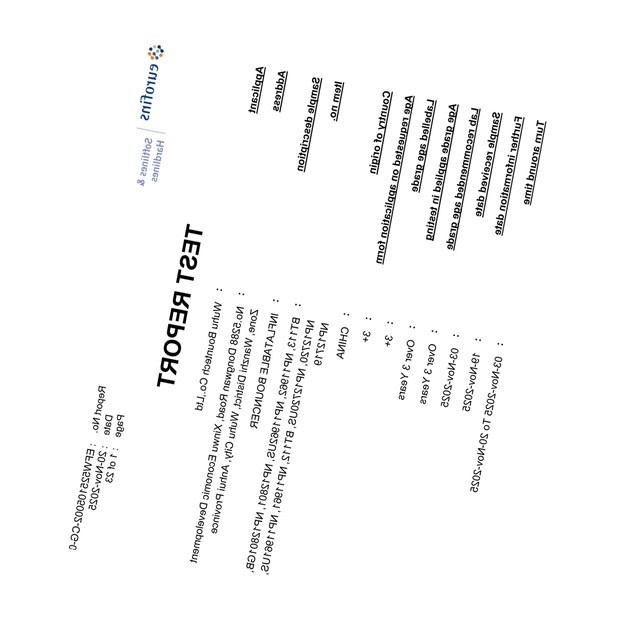eurofins: (132, 40, 172, 125)
